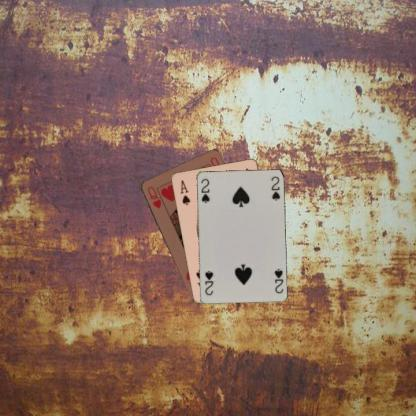2s: (272, 266, 284, 295), (198, 176, 210, 204)
As: (178, 178, 192, 206)
Qh: (145, 184, 162, 209)
